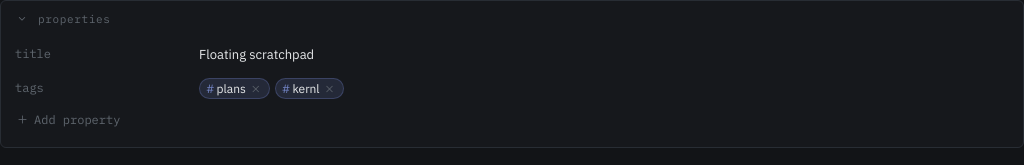
NoteFrontmatter: panel mode › collapses to a one-line summary carrying the tag count and the category
Click the button with class "note-fm__card-head" at (63, 19), box [15,11,111,27]
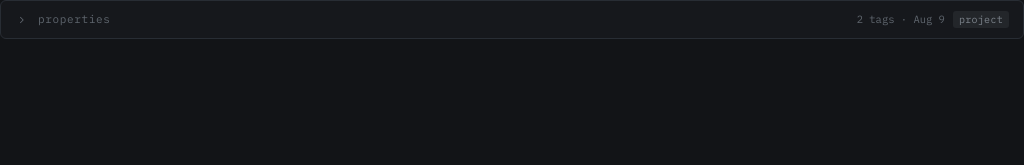
Expected: the text with class "note-fm__summary" shows "2 tags", [857,12,945,26]
Expected: the text with class "note-fm__category" reads "project", [959,13,1003,26]
